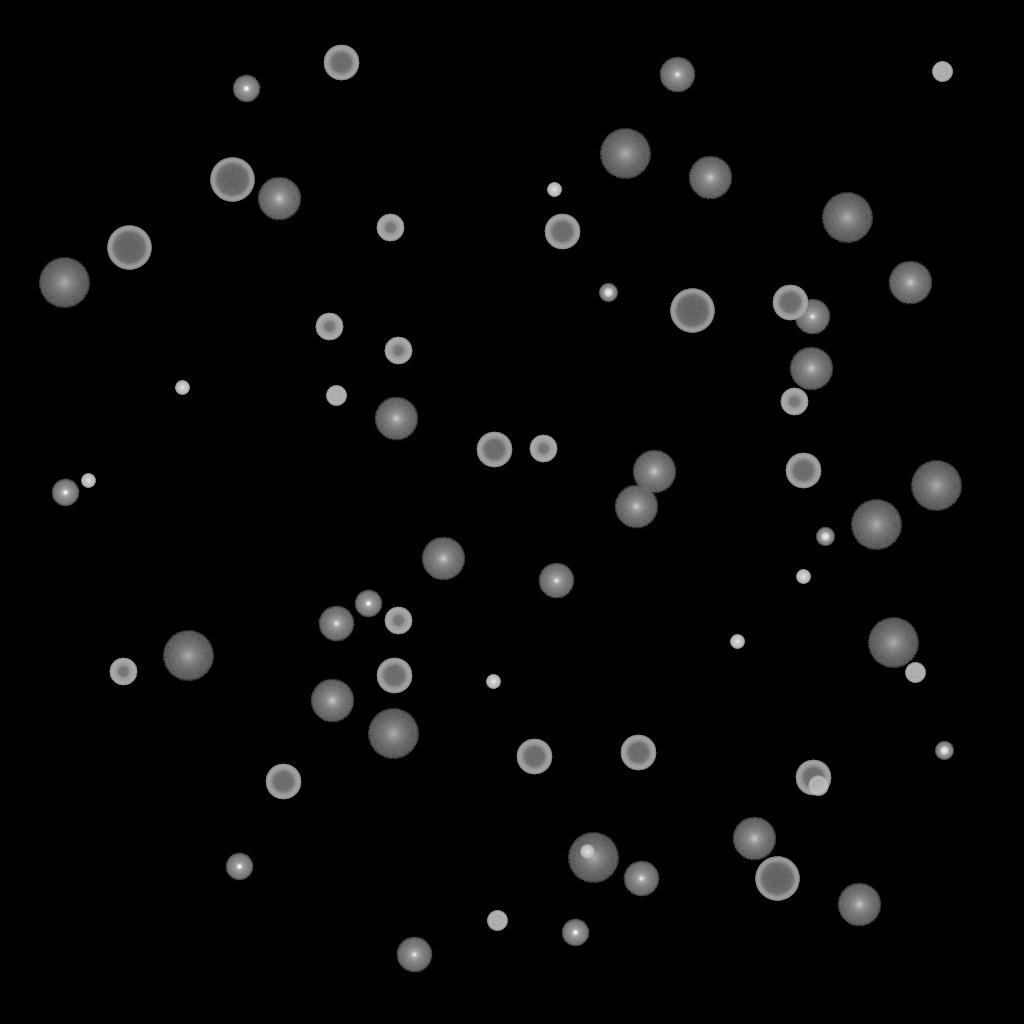depth:-10: (232, 75, 260, 103), (561, 919, 589, 947), (225, 853, 253, 881), (354, 590, 382, 618), (51, 479, 79, 507)
depth:-20: (935, 742, 953, 760), (816, 528, 834, 546), (599, 284, 617, 302)
depth:-30: (730, 635, 744, 649), (547, 183, 561, 197), (580, 845, 594, 859), (796, 570, 810, 584), (486, 675, 500, 689), (81, 474, 95, 488), (175, 381, 189, 395)
depth:-40: (905, 663, 925, 683), (487, 911, 507, 931), (326, 386, 346, 406), (808, 776, 828, 796), (932, 62, 952, 82)
depth:-50: (529, 435, 557, 463), (384, 337, 412, 365), (109, 658, 137, 686), (315, 313, 343, 341), (376, 214, 404, 242), (384, 607, 412, 635), (780, 388, 808, 416)
depth:-60: (620, 735, 656, 771), (516, 739, 552, 775), (785, 453, 821, 489), (772, 285, 808, 321), (476, 432, 512, 468), (265, 764, 301, 800), (544, 214, 580, 250), (376, 658, 412, 694), (323, 45, 359, 81), (795, 760, 831, 796)
depth:-70: (670, 289, 714, 333), (107, 226, 151, 270), (755, 857, 799, 901), (210, 158, 254, 202)
depth:0: (623, 861, 659, 897), (538, 563, 574, 599), (794, 299, 830, 335), (396, 937, 432, 973), (659, 57, 695, 93), (318, 606, 354, 642)
depth:10: (632, 450, 676, 494), (310, 679, 354, 723), (688, 156, 732, 200), (888, 261, 932, 305), (614, 485, 658, 529), (732, 817, 776, 861), (374, 397, 418, 441), (789, 347, 833, 391), (837, 883, 881, 927), (421, 537, 465, 581), (257, 177, 301, 221)
depth:20: (910, 461, 962, 511), (38, 258, 90, 308), (162, 631, 214, 681), (367, 709, 419, 759), (850, 500, 902, 550), (567, 833, 619, 883), (599, 129, 651, 179), (821, 193, 873, 243), (867, 618, 919, 668)
